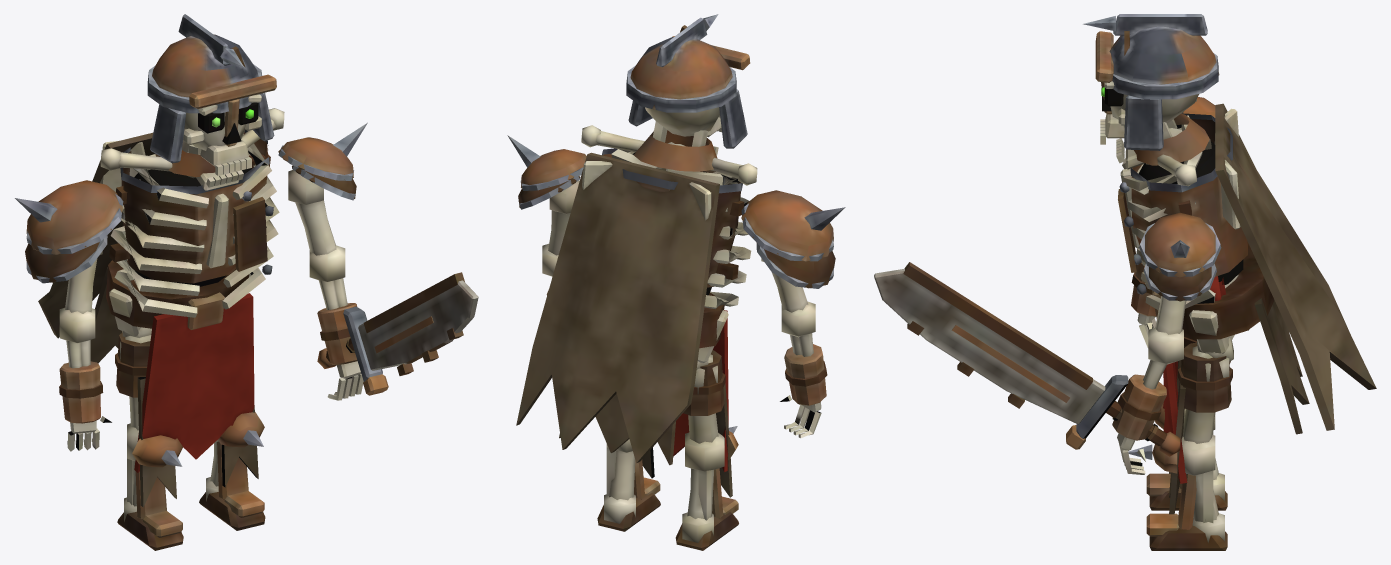
File: skeleton.glb
3 views of the same model, side by side, from view 1: azimuth 30°, elevation 25°; view 2: azimuth 150°, elevation 25°; view 3: azimuth 270°, elevation 25° (orthographic). The views are drawn at different scales.
Parts seen in each view (by area): view 1: Torso, Head, ArmL, ArmR, Weapon, LegL, LegR; view 2: Torso, ArmL, Head, LegL, ArmR, LegR; view 3: Torso, Weapon, Head, ArmR, LegR, LegL, ArmL.
Part boxes in pixels (bbox=[...]): Torso: bbox=[38, 108, 284, 472]; Head: bbox=[147, 14, 276, 190]; ArmL: bbox=[15, 180, 123, 451]; ArmR: bbox=[278, 122, 367, 400]; Weapon: bbox=[317, 272, 478, 395]; LegL: bbox=[115, 332, 183, 550]; LegR: bbox=[199, 405, 265, 530]; Torso: bbox=[516, 125, 757, 471]; ArmL: bbox=[741, 190, 845, 438]; Head: bbox=[626, 14, 750, 155]; LegL: bbox=[675, 350, 738, 550]; ArmR: bbox=[507, 135, 586, 295]; LegR: bbox=[597, 439, 660, 531]; Torso: bbox=[1118, 99, 1376, 483]; Weapon: bbox=[874, 262, 1180, 456]; Head: bbox=[1083, 14, 1219, 169]; ArmR: bbox=[1112, 212, 1221, 474]; LegR: bbox=[1128, 342, 1232, 550]; LegL: bbox=[1146, 336, 1230, 510]; ArmL: bbox=[1131, 97, 1215, 347].
Size of the model in its own units: 1.47 by 2.03 by 1.8.
Materials: 2 (2 with a texture image).
